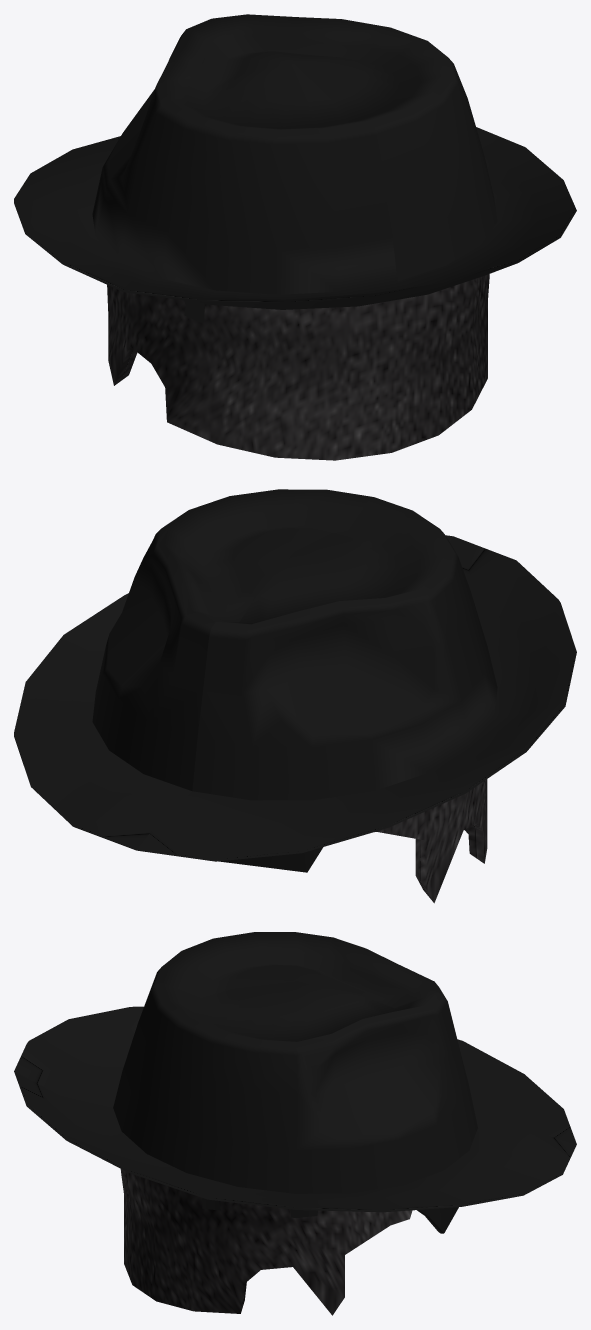
File: acc.glb
3 views of the same model, one above another, from view 1: azimuth 30°, elevation 25°; view 2: azimuth 150°, elevation 25°; view 3: azimuth 270°, elevation 25° (orthographic). The views are drawn at different scales.
Parts seen in each view (by area): view 1: Handle.001, Handle.002; view 2: Handle.001, Handle.002, Handle; view 3: Handle.001, Handle.002, Handle.
Part boxes in pixels (bbox=[...]): Handle.001: bbox=[14, 14, 576, 309]; Handle.002: bbox=[107, 274, 489, 460]; Handle.001: bbox=[14, 489, 576, 861]; Handle.002: bbox=[374, 779, 487, 903]; Handle: bbox=[218, 847, 323, 872]; Handle.001: bbox=[14, 932, 576, 1212]; Handle.002: bbox=[120, 1169, 412, 1315]; Handle: bbox=[202, 1198, 458, 1233].
Bounding box in the file's own units: 1.75 × 1.14 × 2.07.
Materials: 2 (1 with a texture image).
